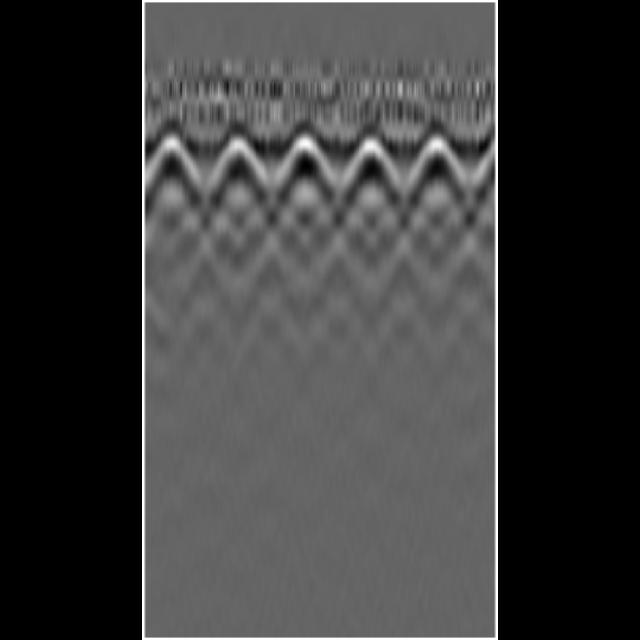hyperbola: (200, 130, 272, 208), (271, 128, 335, 205), (338, 132, 404, 206), (405, 130, 467, 204), (146, 127, 200, 201)
